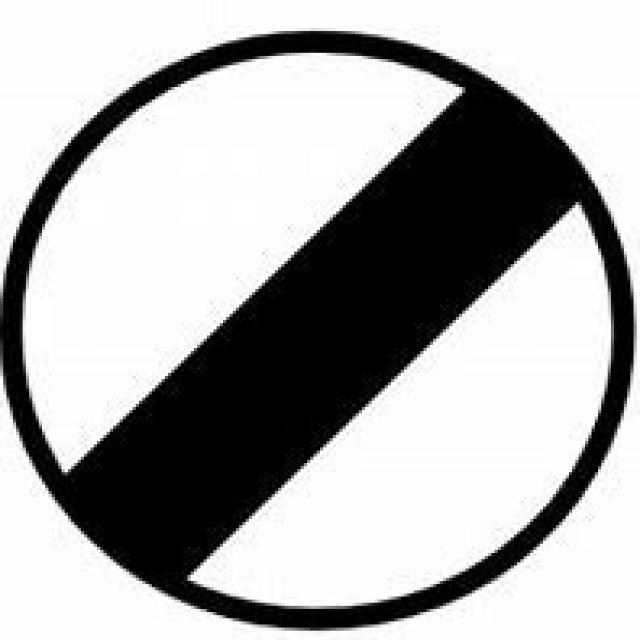restriction ends: (18, 32, 623, 624)
